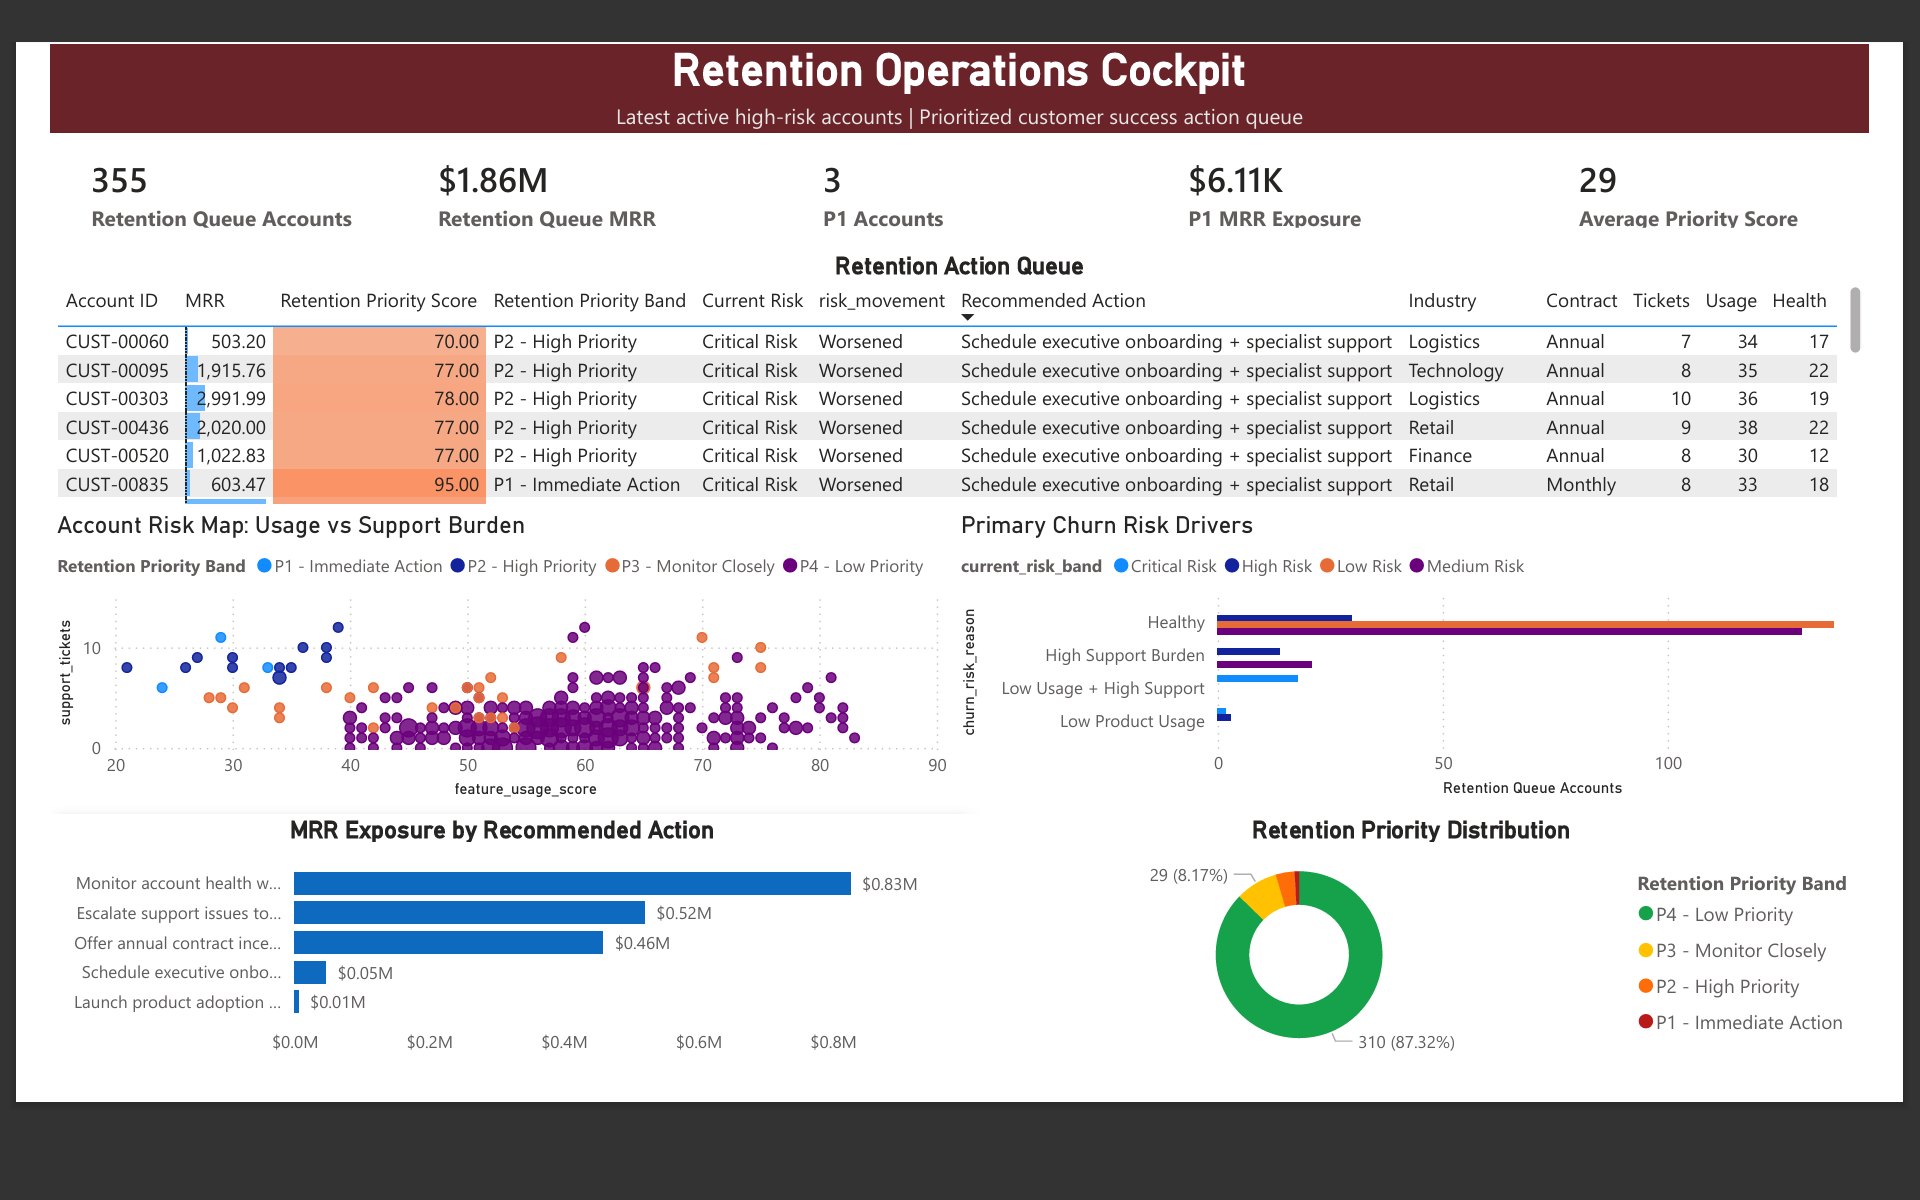

Layout of this report page (visuals, bound fields, positions):
{"tool":"powerbi","page":{"name":"Retention Operations Cockpit","canvas":[1280,720],"ordinal":1},"visuals":[{"type":"shape","title":"Retention Operations Cockpit","box":[0,0,1280,62],"z":0},{"type":"clusteredBarChart","title":"MRR Exposure by Recommended Action","fields":{"Category":["Risk Migration.Recommended Action"],"Y":["Risk Migration.Retention Queue MRR"]},"box":[0,542.4,635.7,177.8],"z":1000},{"type":"tableEx","title":"Retention Action Queue","fields":{"Values":["Risk Migration.company_id","Risk Migration.current_mrr","Risk Migration.Retention Priority Score","Risk Migration.Retention Priority Band","Risk Migration.current_risk_band","Risk Migration.risk_movement","Risk Migration.Recommended Action","Risk Migration.industry","Risk Migration.contract_type","Risk Migration.support_tickets","Risk Migration.feature_usage_score","Risk Migration.account_health_score"]},"box":[0,146.4,1280.2,181.8],"z":2000},{"type":"donutChart","title":"Retention Priority Distribution","fields":{"Category":["Risk Migration.Retention Priority Band"],"Y":["Risk Migration.Retention Queue Accounts"]},"box":[635.7,542.4,644.5,177.8],"z":3000},{"type":"cardVisual","fields":{"Data":["Risk Migration.Retention Queue Accounts"]},"box":[0,62.9,243.7,83.5],"z":4000},{"type":"cardVisual","fields":{"Data":["Risk Migration.Average Priority Score"]},"box":[1047.4,62.9,232.9,83.5],"z":5000},{"type":"cardVisual","fields":{"Data":["Risk Migration.P1 MRR Exposure"]},"box":[772.3,62.9,275.1,83.5],"z":6000},{"type":"cardVisual","fields":{"Data":["Risk Migration.P1 Accounts"]},"box":[514.8,62.9,257.4,83.5],"z":7000},{"type":"cardVisual","fields":{"Data":["Risk Migration.Retention Queue MRR"]},"box":[243.7,62.9,271.2,83.5],"z":8000},{"type":"scatterChart","title":"Account Risk Map: Usage vs Support Burden","fields":{"X":["Risk Migration.feature_usage_score"],"Y":["Risk Migration.support_tickets"],"Size":["CountNonNull(Risk Migration.current_mrr)"],"Series":["Risk Migration.Retention Priority Band"]},"box":[0,328.2,635.7,206.3],"z":9000},{"type":"clusteredBarChart","title":"Primary Churn Risk Drivers","fields":{"Category":["Risk Migration.churn_risk_reason"],"Y":["Risk Migration.Retention Queue Accounts"],"Series":["Risk Migration.current_risk_band"]},"box":[636,328,644,206],"z":10000}]}

Visuals, with their boxes on the page's 1280x720 design canvas (x1, y1, x2, y2). These are canvas units, not pixel positions in the 1920x1200 screenshot, which may show the page scaled, cropped or inside an application window:
"Retention Operations Cockpit" shape: 0:0:1280:62
"MRR Exposure by Recommended Action" clusteredBarChart: 0:542:636:720
"Retention Action Queue" tableEx: 0:146:1280:328
"Retention Priority Distribution" donutChart: 636:542:1280:720
cardVisual - Risk Migration.Retention Queue Accounts: 0:63:244:146
cardVisual - Risk Migration.Average Priority Score: 1047:63:1280:146
cardVisual - Risk Migration.P1 MRR Exposure: 772:63:1047:146
cardVisual - Risk Migration.P1 Accounts: 515:63:772:146
cardVisual - Risk Migration.Retention Queue MRR: 244:63:515:146
"Account Risk Map: Usage vs Support Burden" scatterChart: 0:328:636:534
"Primary Churn Risk Drivers" clusteredBarChart: 636:328:1280:534
